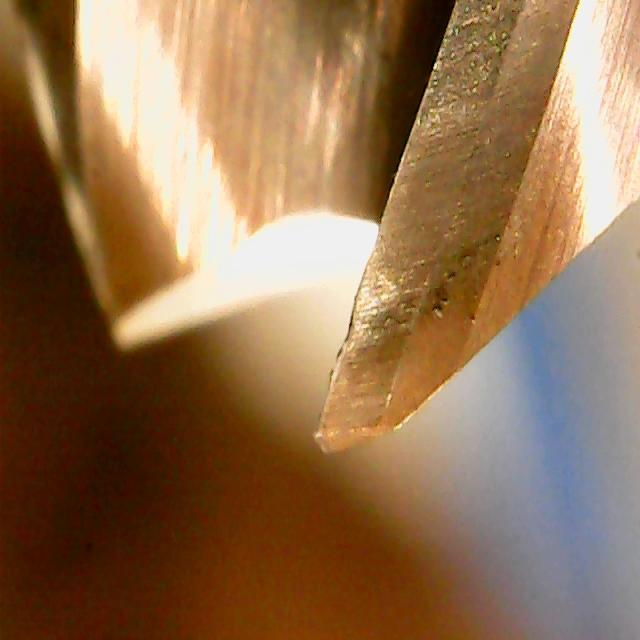Tool-wear-class-1: (296, 242, 479, 459)
